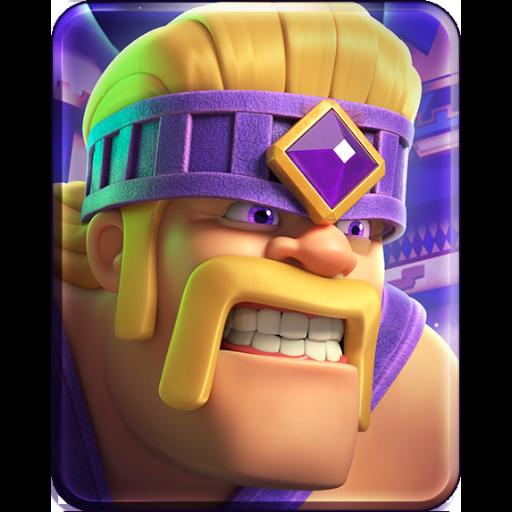barbarians-evo: (70, 19, 450, 501)
